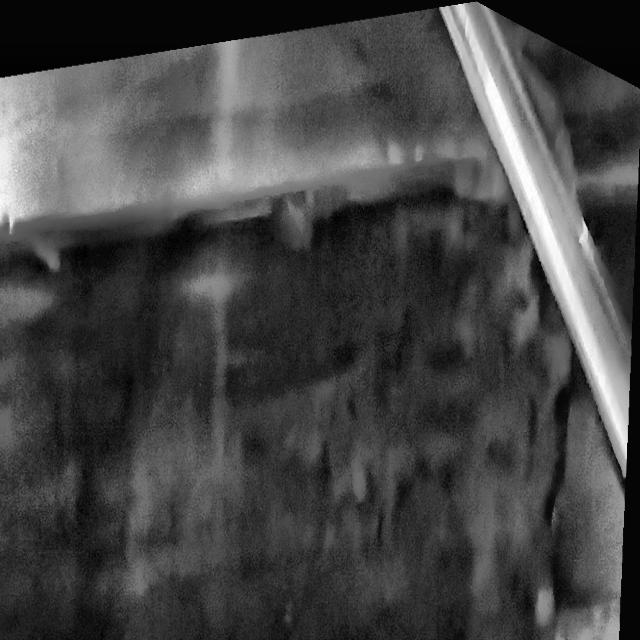stairs: (0, 1, 640, 640)
